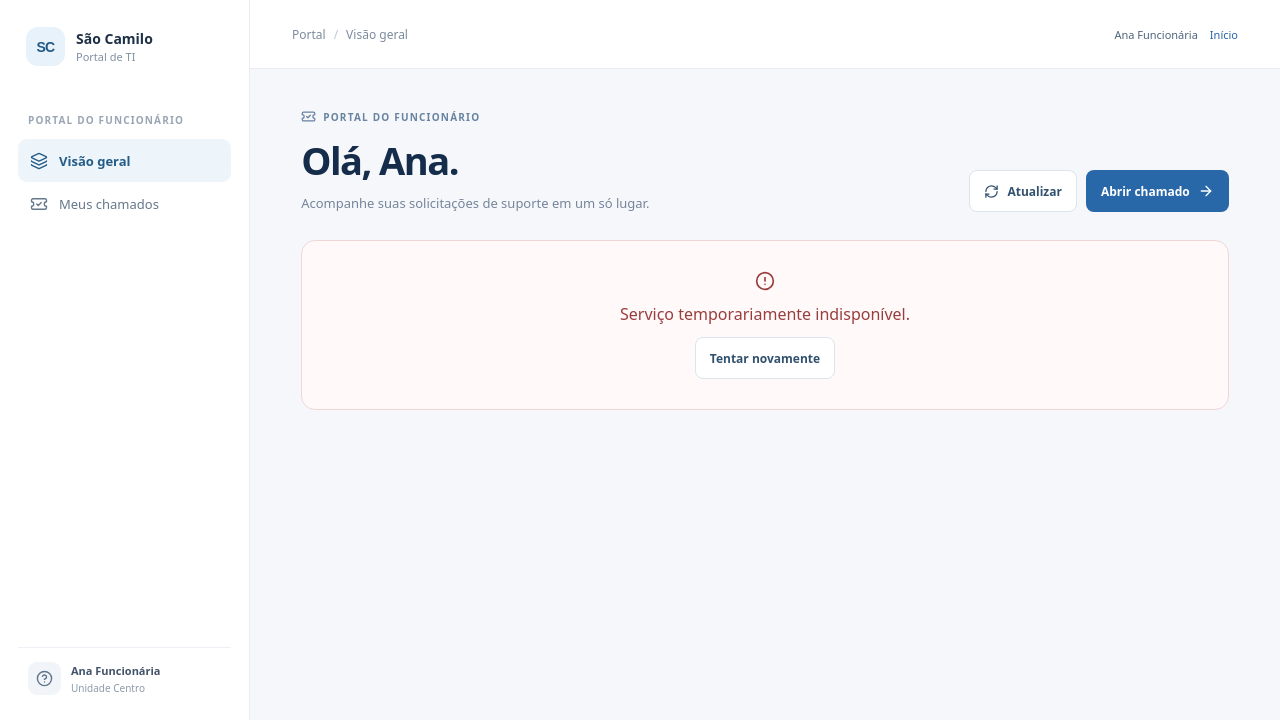
Test case: dashboards › trata falha e painel sem registros, permitindo nova consulta
The image size is (1280, 720).
expect the message shows "temporariamente indisponível": met, box x1=620 y1=303 x2=910 y2=325
Step 1. Click the button "Tentar novamente" → (765, 358), box x1=695 y1=337 x2=835 y2=379
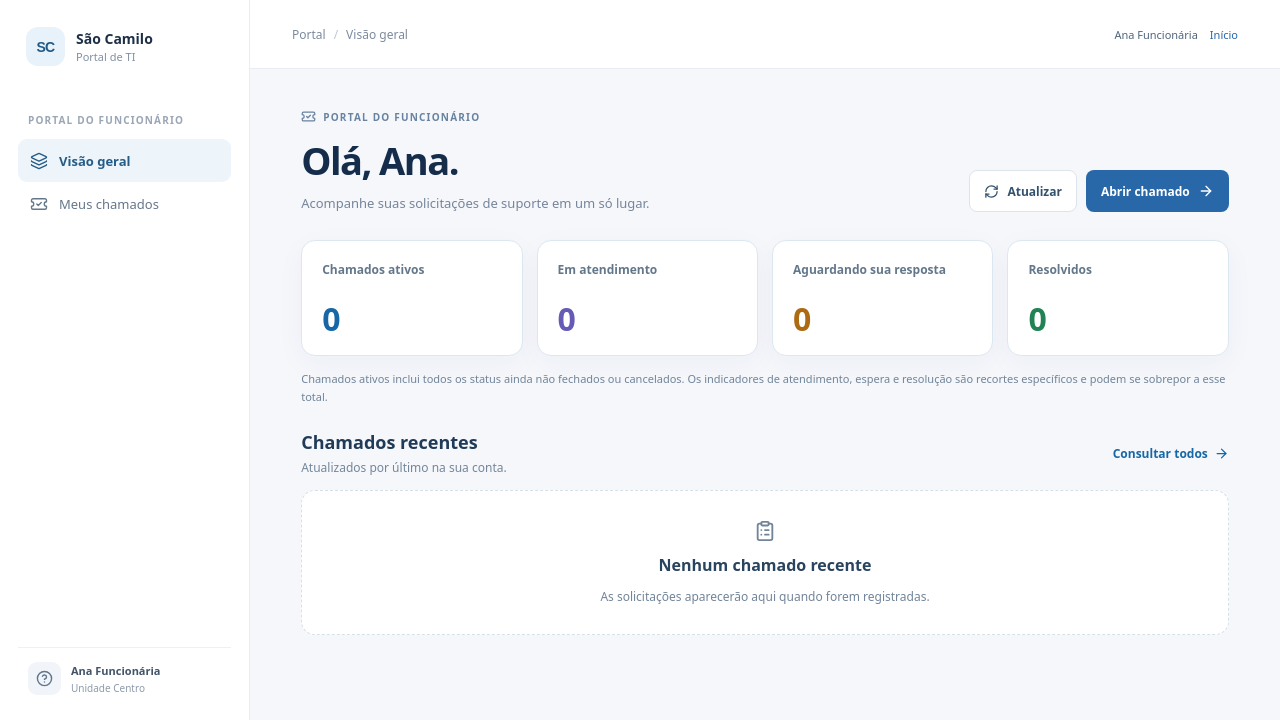
expect the text "Nenhum chamado recente" is shown: met, box x1=659 y1=554 x2=871 y2=576
